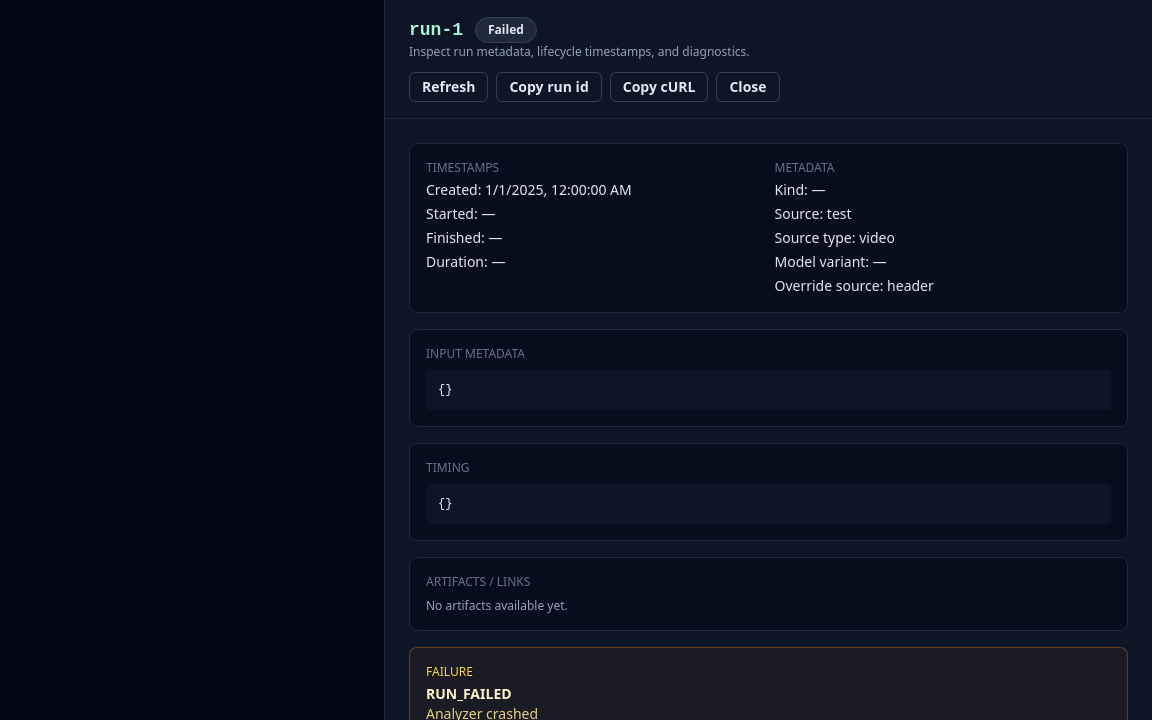
Test: RunDetailPanel › shows retry affordance on refresh 5xx and retries with backoff
Expected: the text "RUN_FAILED" is shown, [426,684,512,703]
Click the button "Refresh".
click(449, 87)  # box [409,72,488,102]
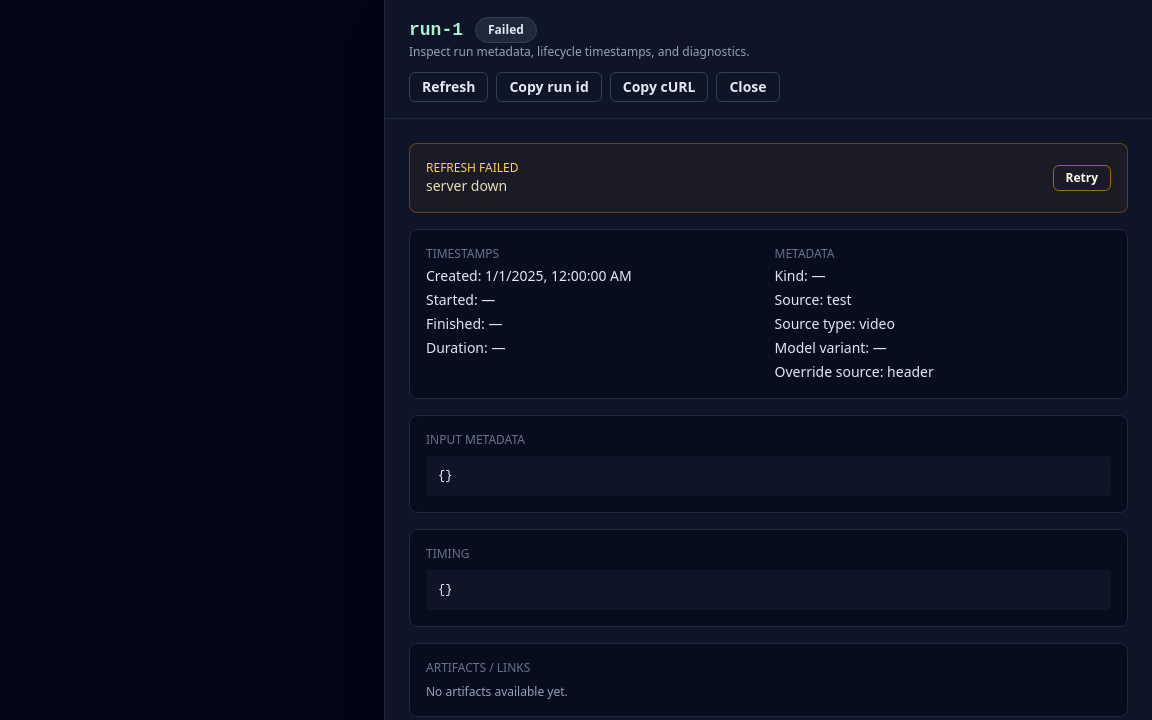
Result: the element with test id "refresh-retry-banner" is shown at [409,143,1128,213]
Click the button with test id "refresh-retry-button".
click(1082, 178)  # box [1052,165,1111,191]
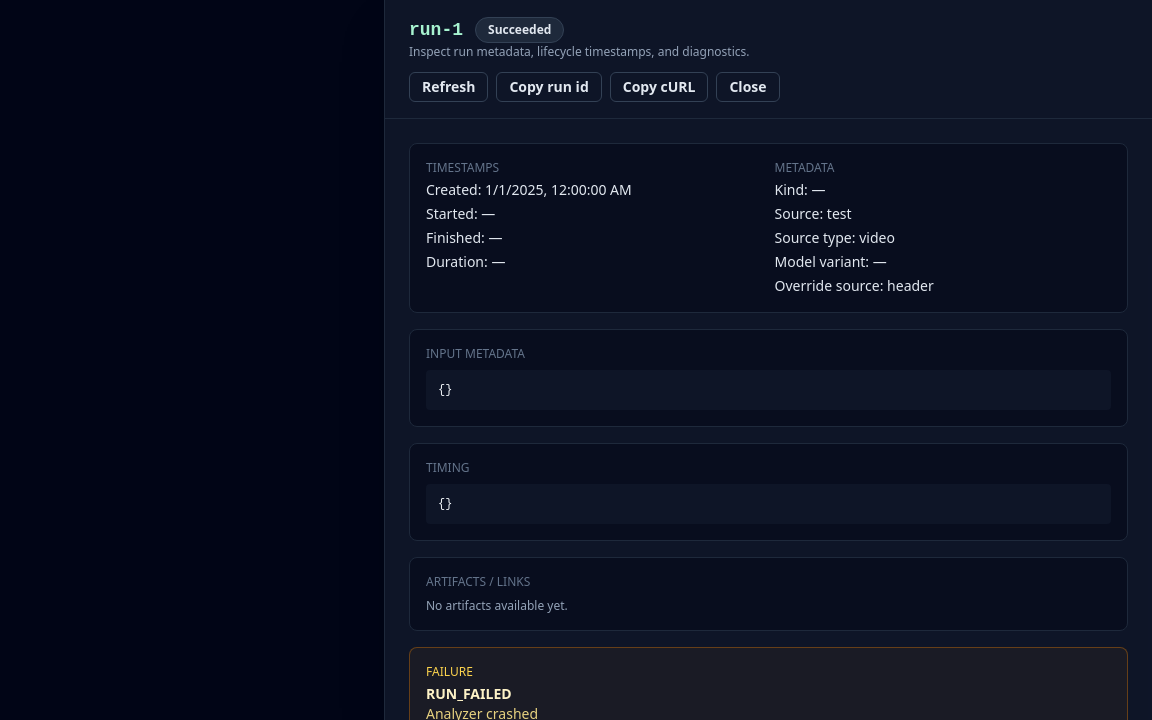
Result: the element with test id "refresh-retry-banner" is gone
